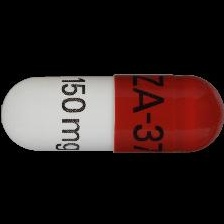53217-194: (0, 0, 224, 224)
